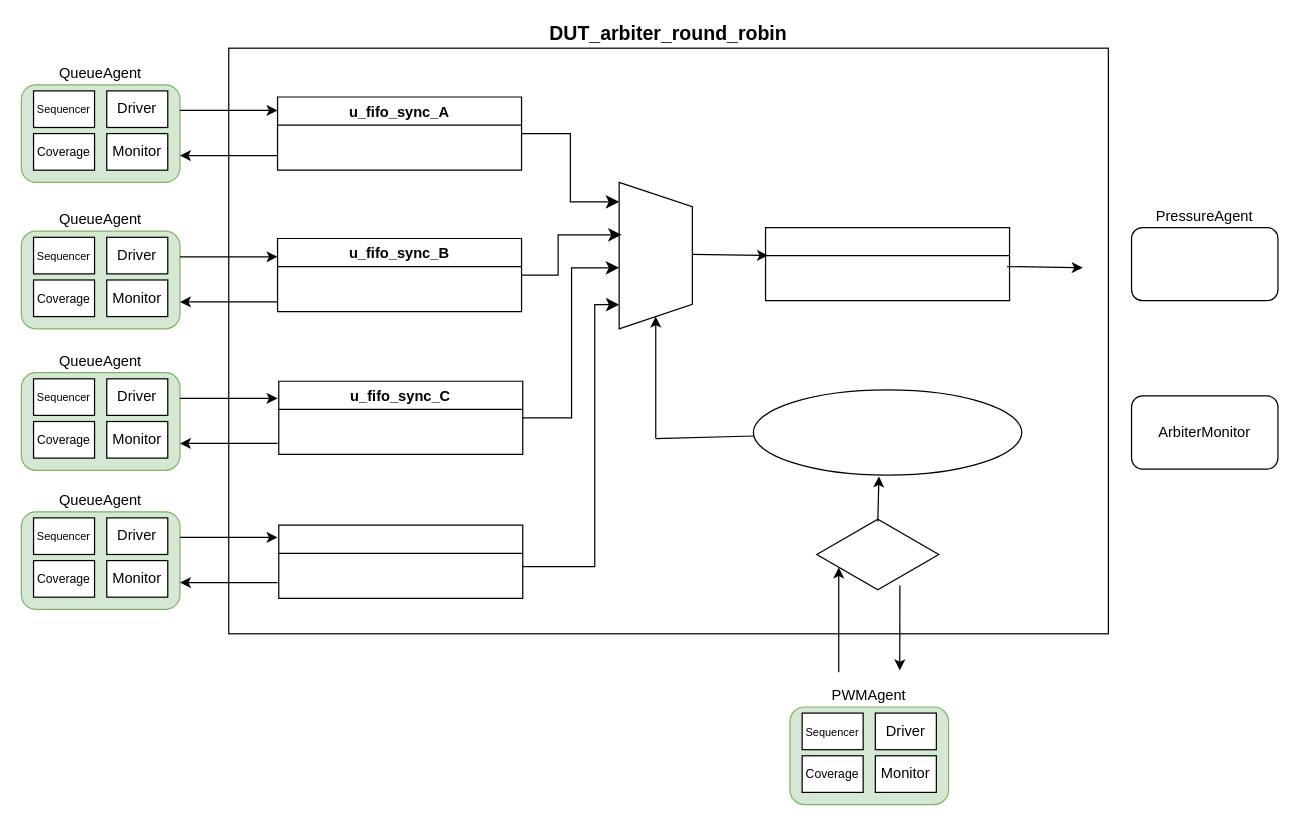
This 1299x826 diagram has some shape labels left out. The centre of each missing label's shape, as x and y in pixels:
"PWM" belongs at (877,554).
"u_fifo_sync_D" belongs at (400,561).
"u_fifo_sync_E" belongs at (887,263).
"weighted_round_robin_inst" belongs at (887,432).
